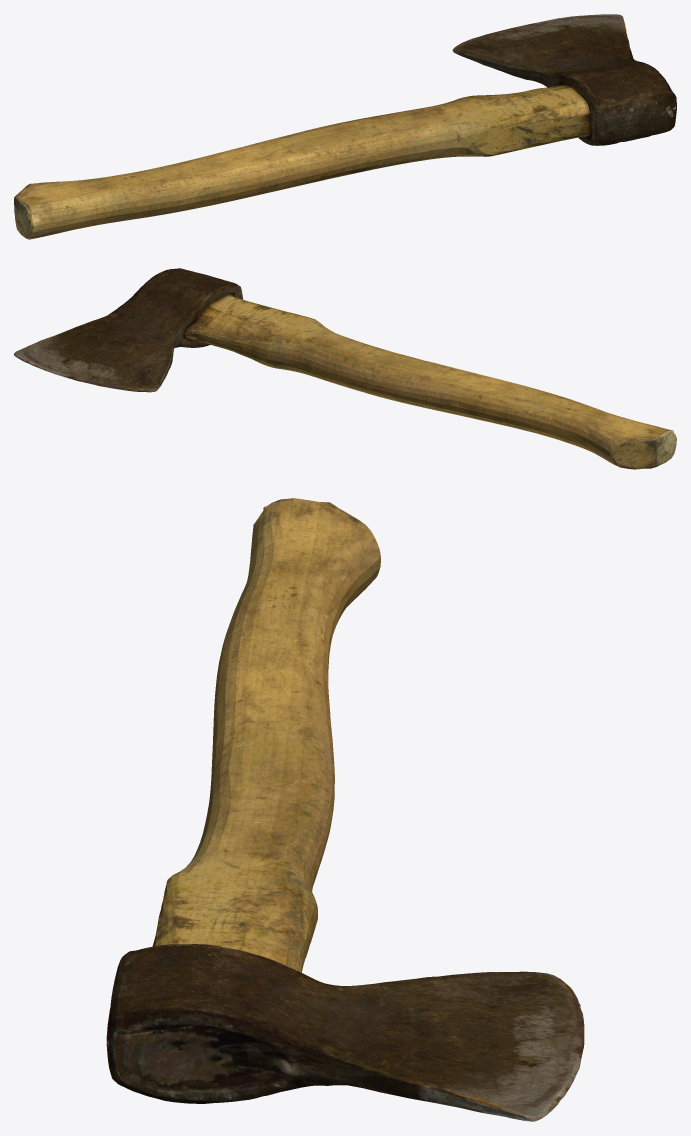
The model's file is Hatchet1.glb.
3 views of the same model, one above another, from view 1: azimuth 30°, elevation 25°; view 2: azimuth 150°, elevation 25°; view 3: azimuth 270°, elevation 25° (orthographic). The views are drawn at different scales.
Parts seen in each view (by area): view 1: Object_4; view 2: Object_4; view 3: Object_4.
Part boxes in pixels (box(x1,y1,x2,y2)): Object_4: box(14, 14, 676, 239); Object_4: box(14, 268, 676, 469); Object_4: box(106, 498, 584, 1121).
Bounding box in the file's own units: 1.33 × 0.1051 × 0.4642.
Materials: 1 (1 with a texture image).
